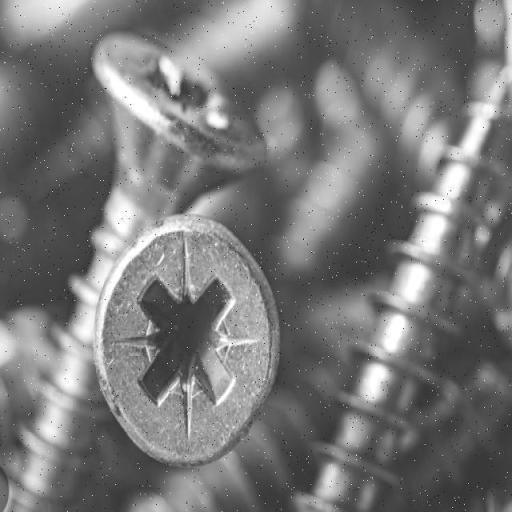Pozidriv: (90, 210, 280, 467), (91, 26, 283, 167)
